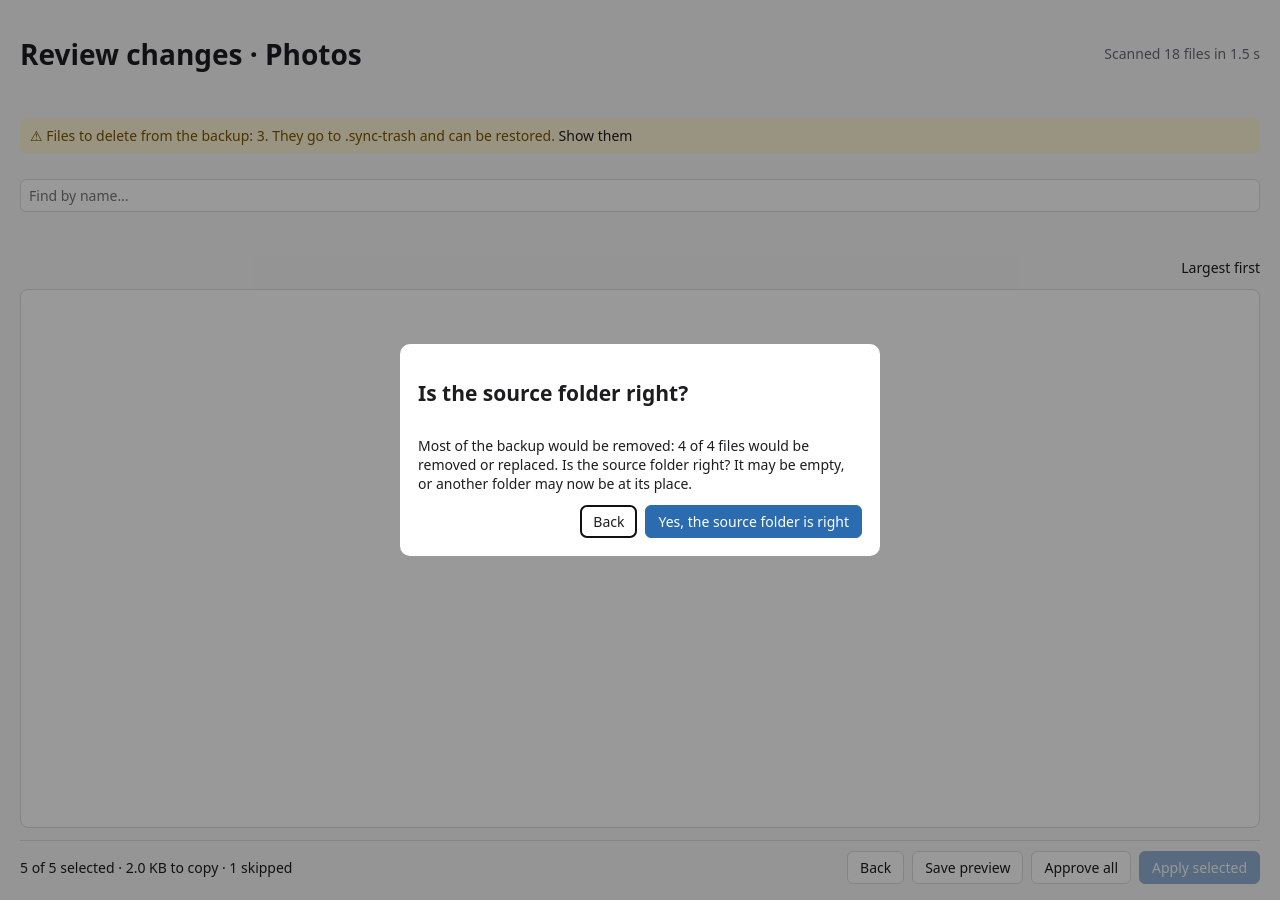
Test: Preview › asks about the source folder on a later sync
This screenshot has width=1280, height=900.
Check: the dialog "Is the source folder right?" is shown, box [400,344,880,556]
Check: the text "Most of the backup would be removed: 4 of 4 files" is shown, box [418,436,844,493]
Click the button "Yes, the source folder is right" at [754, 522], box [646,505,862,538]
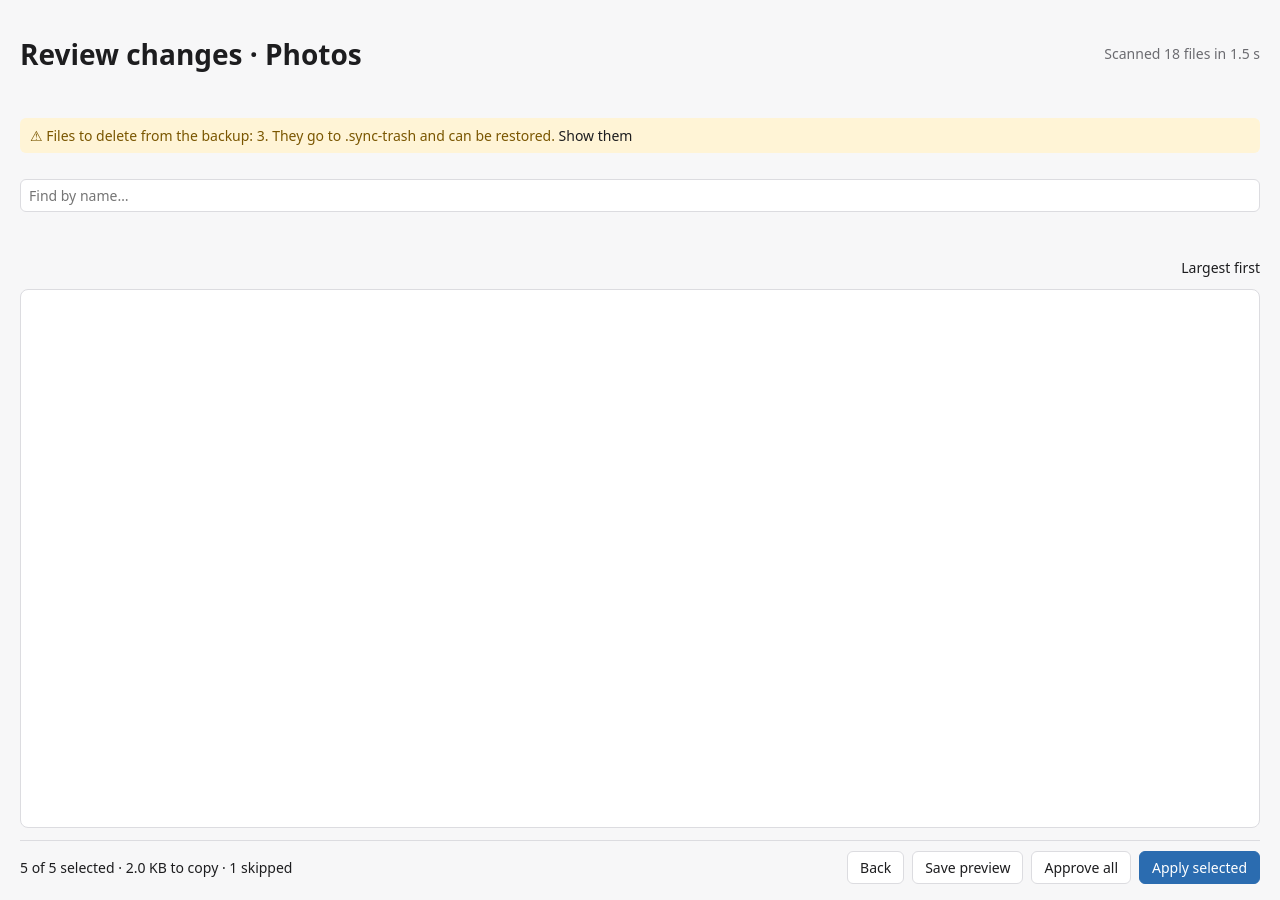
Check: the button "Apply selected" is enabled, box [1139,851,1260,884]
